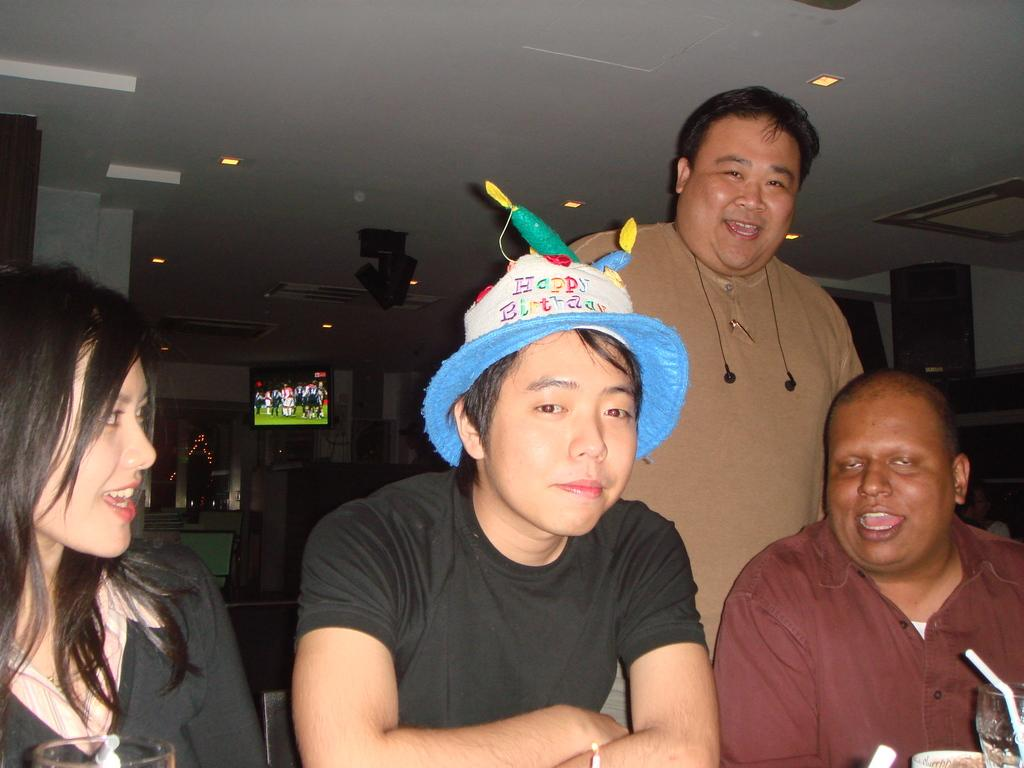Hat: (420, 176, 690, 472)
